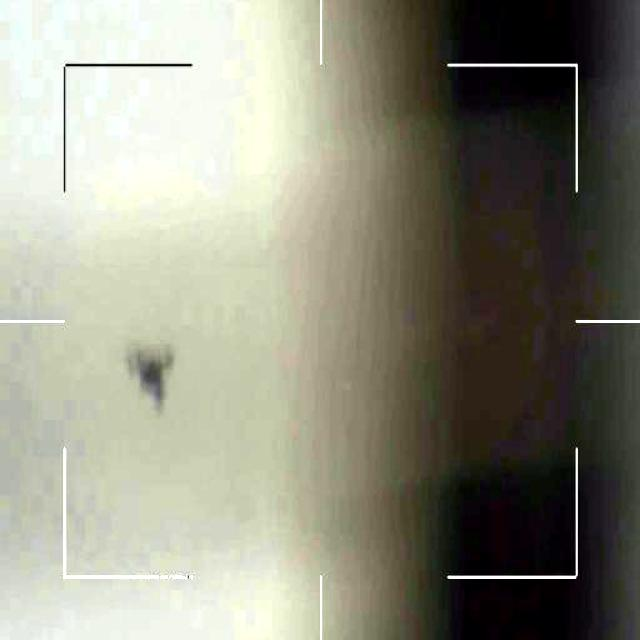bird: (122, 336, 182, 414)
